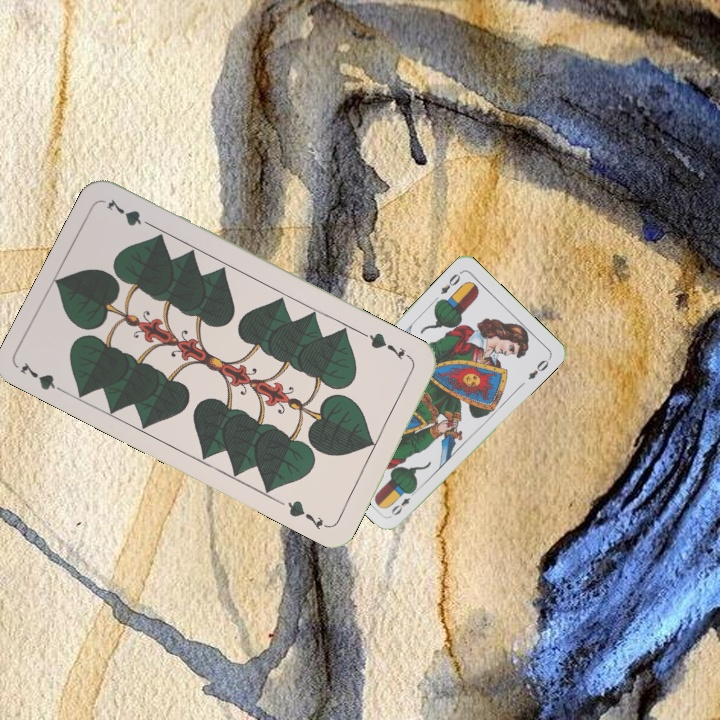EO: (387, 485, 420, 518), (436, 267, 464, 297)
G7: (16, 358, 71, 398), (361, 328, 416, 364)
